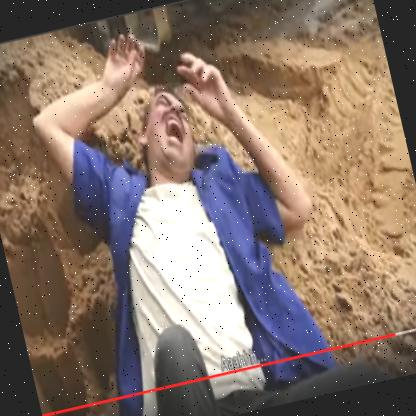sem_capacete: (126, 82, 207, 190)
sem_colete_refletivo: (57, 125, 336, 409)
